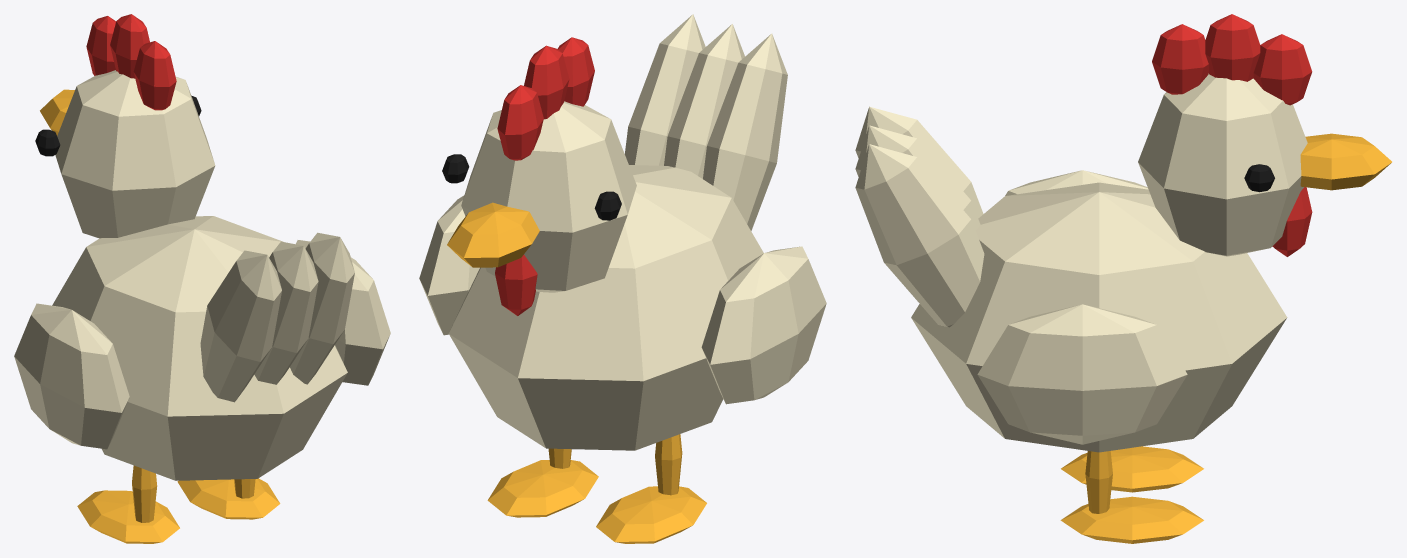
File: polymorph_chicken.glb
3 renders of one model, left to right at view 1: azimuth 30°, elevation 25°; view 2: azimuth 150°, elevation 25°; view 3: azimuth 270°, elevation 25°, orthographic. The views are drawn at different scales.
Parts seen in each view (by area): view 1: PolymorphChicken; view 2: PolymorphChicken; view 3: PolymorphChicken.
Part boxes in pixels (box(x1,y1,x2,y2)): PolymorphChicken: box(14, 14, 390, 543); PolymorphChicken: box(419, 14, 826, 543); PolymorphChicken: box(855, 14, 1391, 543).
Size of the model in its own units: 0.7135 by 0.985 by 0.9704.
